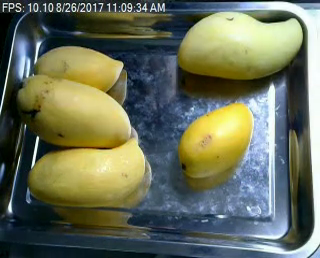Mango: (177, 10, 305, 79), (15, 73, 134, 145), (28, 142, 148, 210), (173, 98, 254, 177), (30, 45, 127, 93)
